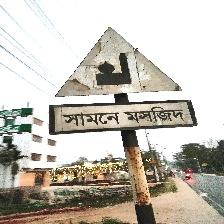Mosque in front: (52, 28, 194, 135)
